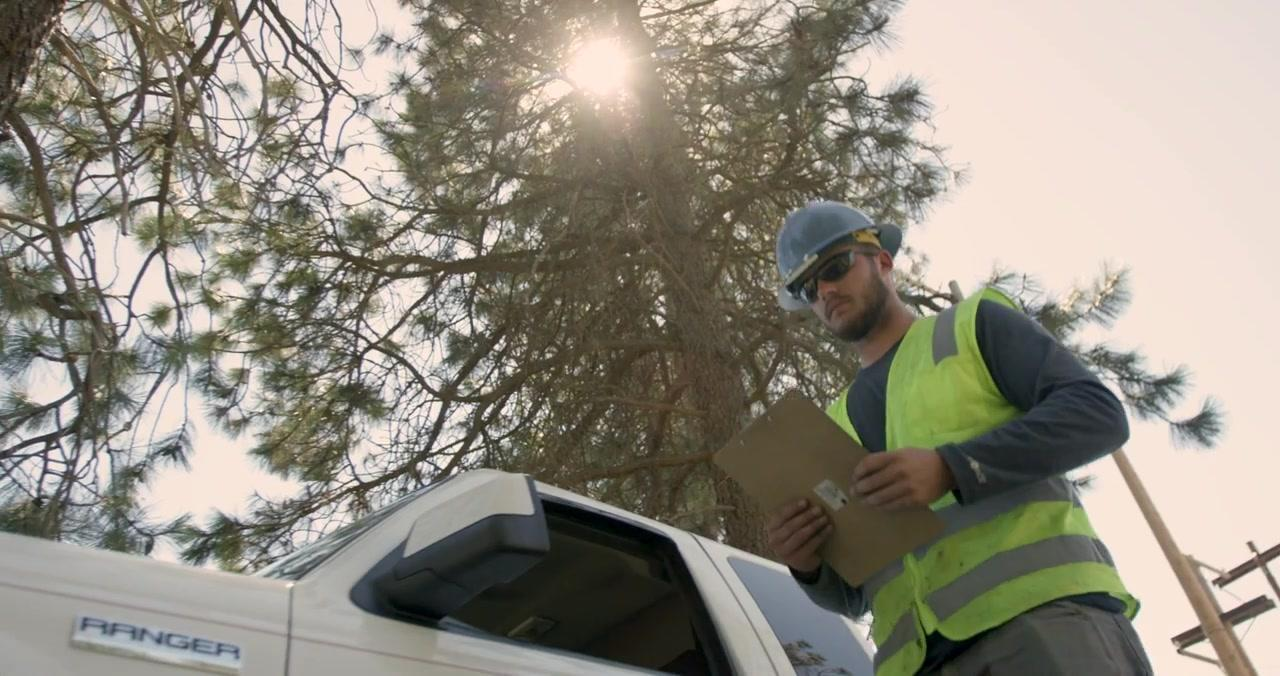Boots: (756, 191, 896, 280)
Glass: (781, 297, 1154, 676)
